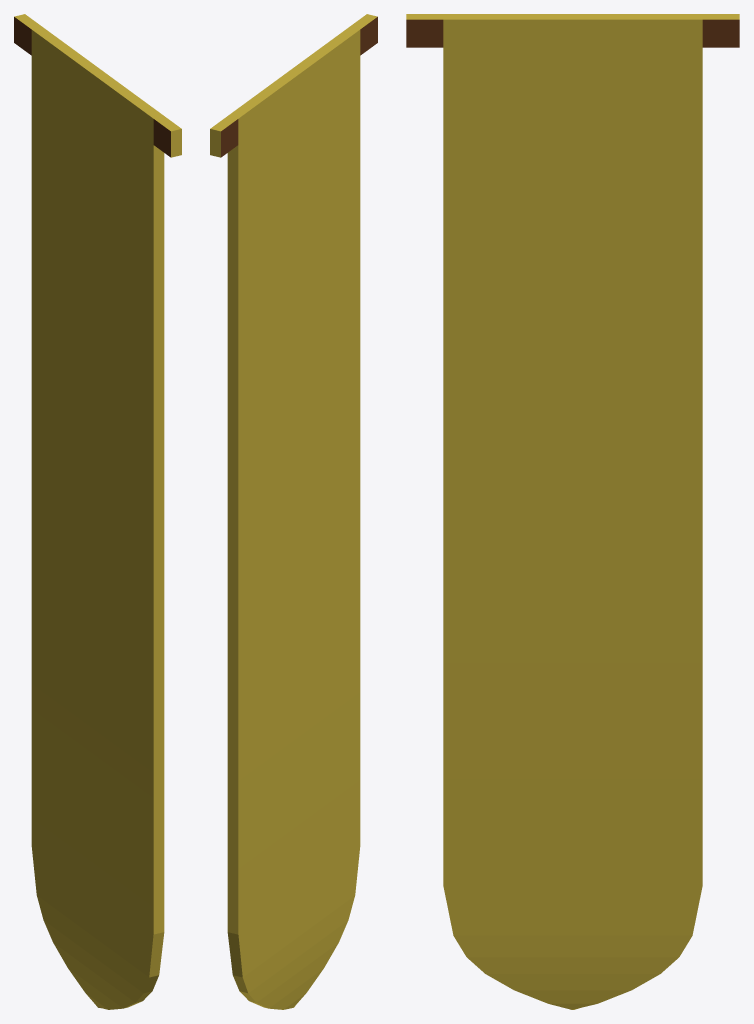
File: Banner1.fbx
3 views of the same model, side by side, from view 1: azimuth 30°, elevation 25°; view 2: azimuth 150°, elevation 25°; view 3: azimuth 270°, elevation 25° (orthographic). The views are drawn at different scales.
Parts seen in each view (by area): view 1: Cube; view 2: Cube; view 3: Cube.
Part boxes in pixels (left/top/right/bottom): Cube: left=14, top=14, right=181, bottom=1009; Cube: left=210, top=14, right=377, bottom=1009; Cube: left=406, top=14, right=739, bottom=1009.
Bounding box in the file's own units: 10.27 × 846 × 257.
